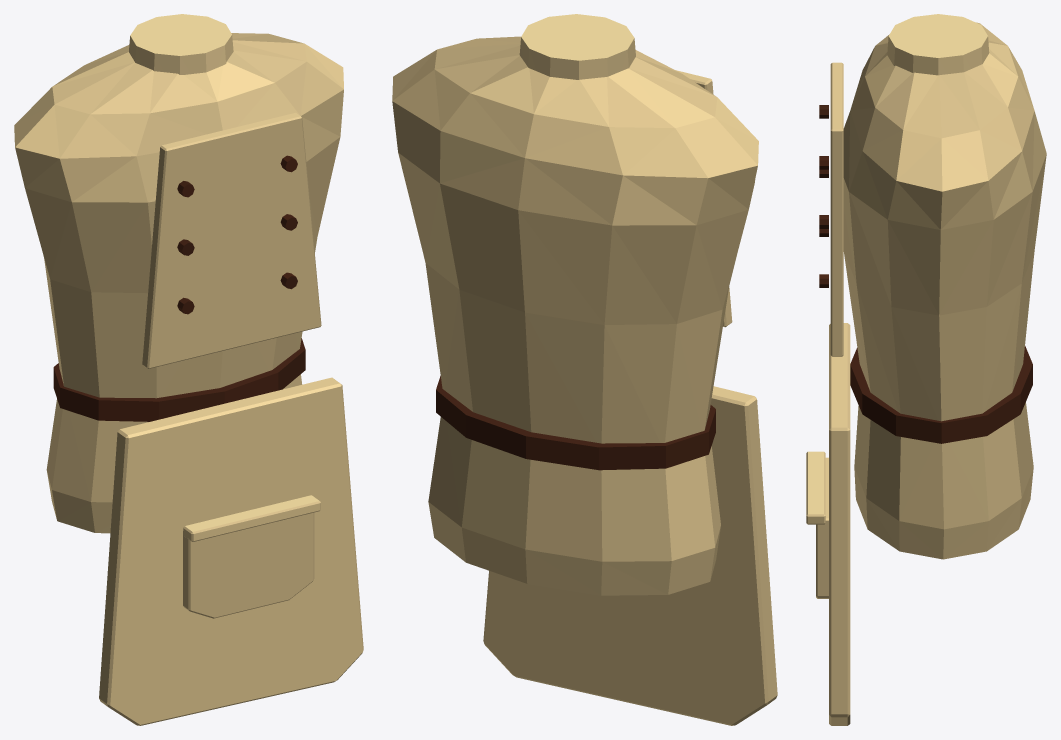
Rendered from EP_Torso_ChefApron.fbx.
The picture shows the model from 3 angles, left to right: view 1: azimuth 30°, elevation 25°; view 2: azimuth 150°, elevation 25°; view 3: azimuth 270°, elevation 25°; orthographic projection. The views are drawn at different scales.
Parts seen in each view (by area): view 1: EP_Torso_ChefApron; view 2: EP_Torso_ChefApron; view 3: EP_Torso_ChefApron.
Boxes of the visible parts, bbox=[...] form: EP_Torso_ChefApron: bbox=[14, 14, 363, 725]; EP_Torso_ChefApron: bbox=[392, 14, 777, 725]; EP_Torso_ChefApron: bbox=[806, 14, 1046, 725].
Size of the model in its own units: 0.47 by 0.8659 by 0.295.
